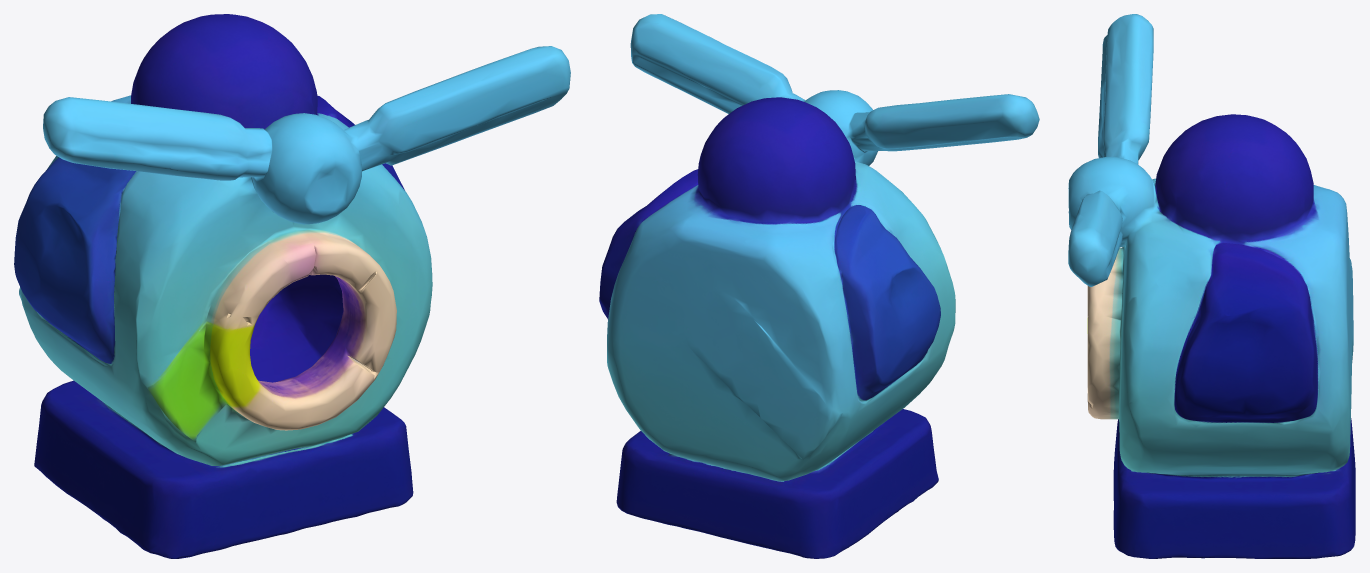
The model's file is wind-device.glb.
The picture shows the model from 3 angles, left to right: view 1: azimuth 30°, elevation 25°; view 2: azimuth 150°, elevation 25°; view 3: azimuth 270°, elevation 25°; orthographic projection. The views are drawn at different scales.
Visible parts, largest first — view 1: tripo_node_e07b875c-8ae0-4987-abfc-242a73ead8fc; view 2: tripo_node_e07b875c-8ae0-4987-abfc-242a73ead8fc; view 3: tripo_node_e07b875c-8ae0-4987-abfc-242a73ead8fc.
Part boxes in pixels (<box>): tripo_node_e07b875c-8ae0-4987-abfc-242a73ead8fc: <box>14,14,570,558</box>; tripo_node_e07b875c-8ae0-4987-abfc-242a73ead8fc: <box>599,14,1039,558</box>; tripo_node_e07b875c-8ae0-4987-abfc-242a73ead8fc: <box>1068,14,1355,558</box>.
Size of the model in its own units: 1 by 0.9174 by 0.5967.
1 material, 1 textured.
